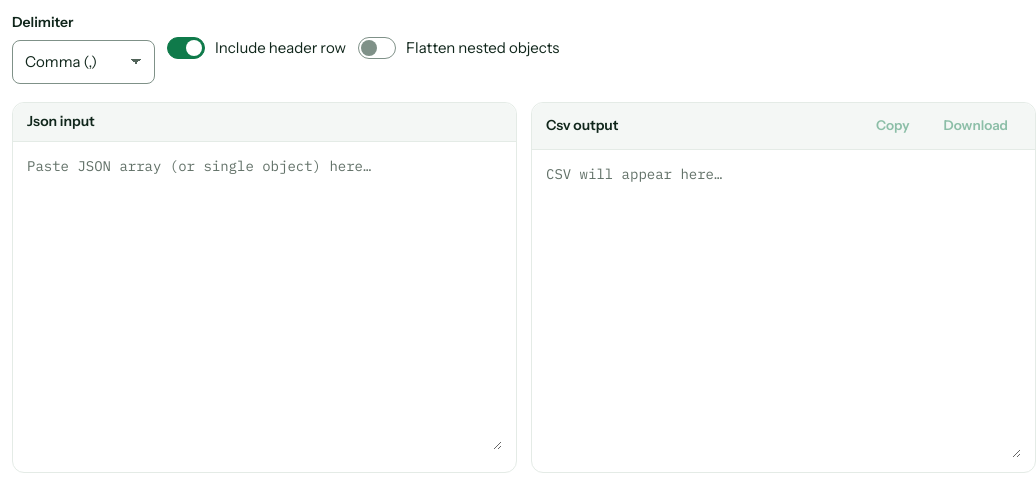
Scenario: JsonToCsv › shows a parse error notice for invalid JSON
Type "not json at all" into the text box with placeholder "Paste JSON array (or single object) here…" at (264, 303), box [27,156,502,450]
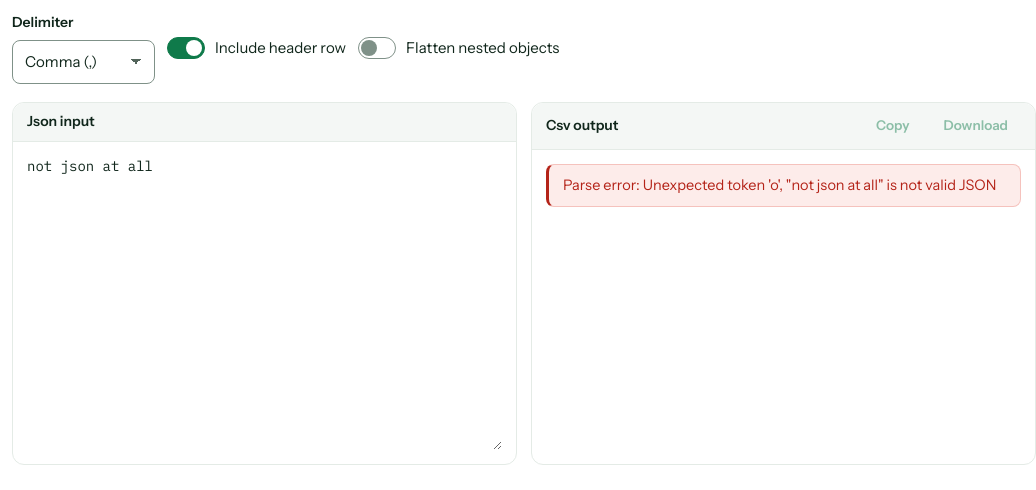
Expected: the text "Parse error" is shown, [563,176,996,194]
